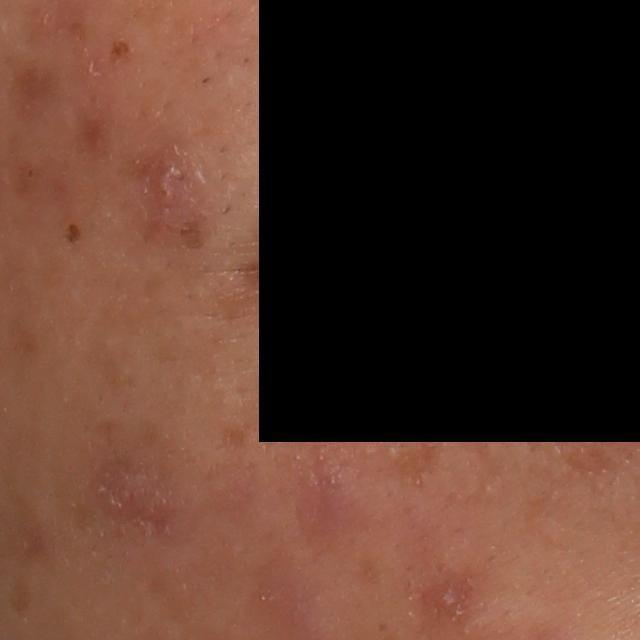papule: (132, 141, 208, 215)
